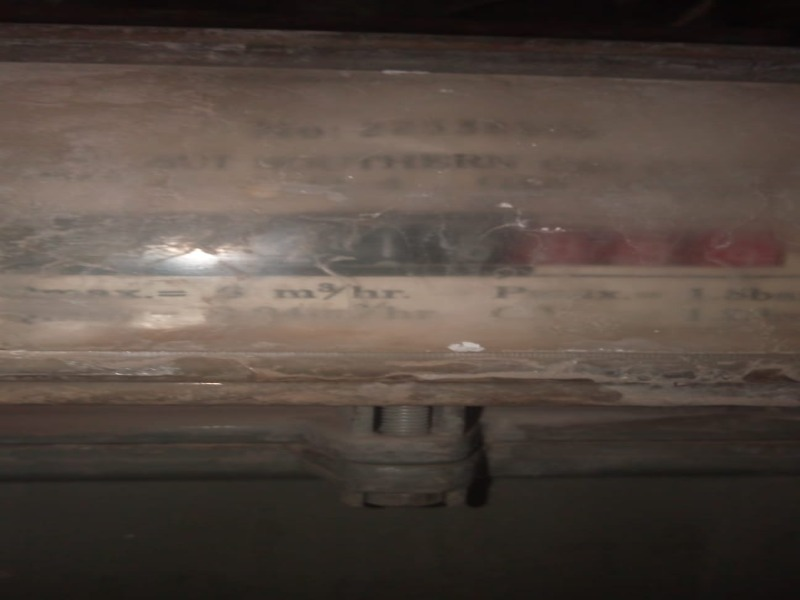ssgc: (17, 213, 789, 280)
